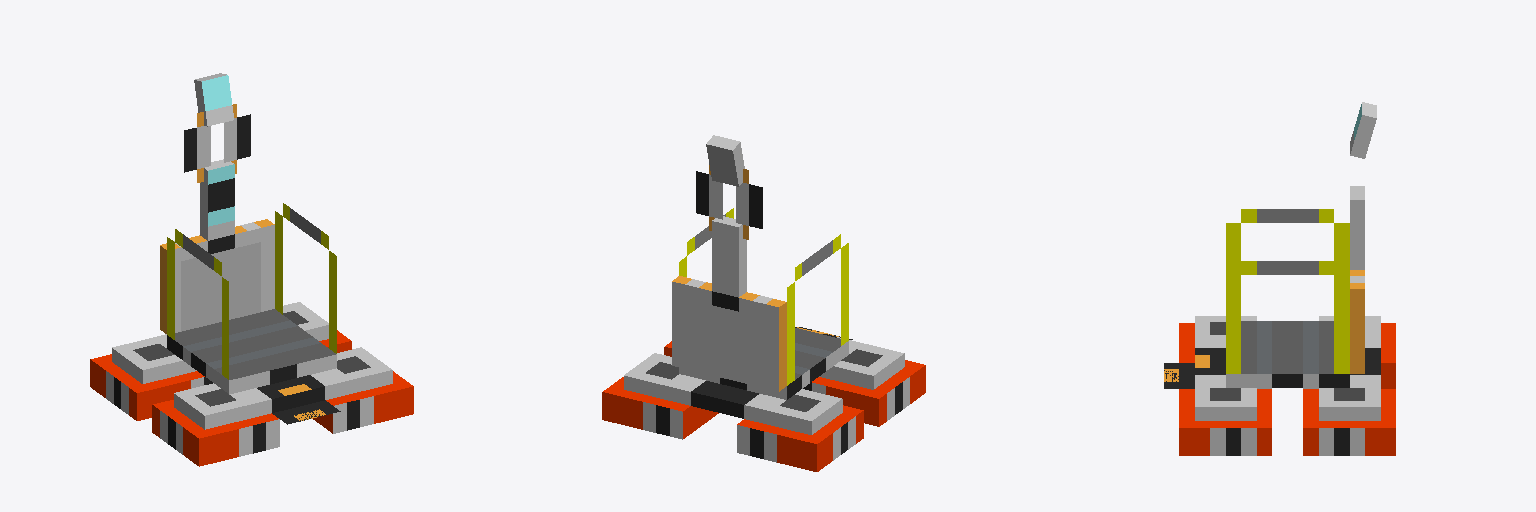
The picture shows the model from 3 angles: view 1: azimuth 30°, elevation 25°; view 2: azimuth 150°, elevation 25°; view 3: azimuth 270°, elevation 25°; orthographic projection.
Visible parts, largest first — view 1: platform, lid, frontjoin, frontleft, backleft, backjoin, frontright, arm, claws, railright, railleft, console (+1 smaller); view 2: lid, backjoin, backleft, backright, frontleft, platform, arm, frontjoin, claws, railleft, console, railright; view 3: platform, railright, frontjoin, frontright, backright, backjoin, railleft, lid, arm, console, backleft, step (+1 smaller).
Part boxes in pixels (x1,y1,x2,y2): platform: (167, 309, 336, 394); lid: (160, 219, 274, 333); frontjoin: (174, 347, 392, 429); frontleft: (152, 400, 279, 466); backleft: (90, 354, 212, 420); backjoin: (112, 302, 328, 383); frontright: (313, 371, 413, 433); arm: (200, 159, 234, 253); claws: (184, 104, 250, 182); railright: (275, 203, 336, 353); railleft: (167, 229, 228, 379); console: (194, 73, 233, 126); lid: (672, 276, 786, 391); backjoin: (624, 353, 842, 434); backleft: (737, 405, 863, 471); backright: (602, 377, 718, 439); frontleft: (803, 360, 925, 426); platform: (679, 328, 848, 399); arm: (712, 216, 746, 311); frontjoin: (795, 327, 904, 389); claws: (696, 165, 762, 239); railleft: (787, 234, 848, 385); console: (706, 135, 744, 186); railright: (679, 208, 733, 276); platform: (1226, 321, 1349, 387); railright: (1226, 261, 1349, 373); frontjoin: (1195, 316, 1256, 420); frontright: (1179, 389, 1271, 455); backright: (1303, 389, 1395, 455); backjoin: (1319, 316, 1380, 420); railleft: (1226, 209, 1349, 274); lid: (1350, 270, 1364, 373); arm: (1350, 186, 1364, 269); console: (1350, 102, 1376, 158); backleft: (1303, 323, 1395, 388); step: (1164, 363, 1194, 388).
Size of the model in its own units: 1 by 1.31 by 0.9375.
Materials: 1 (1 with a texture image).